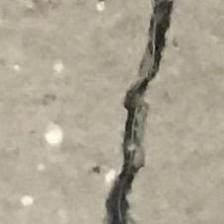Crack: (98, 0, 205, 224)
